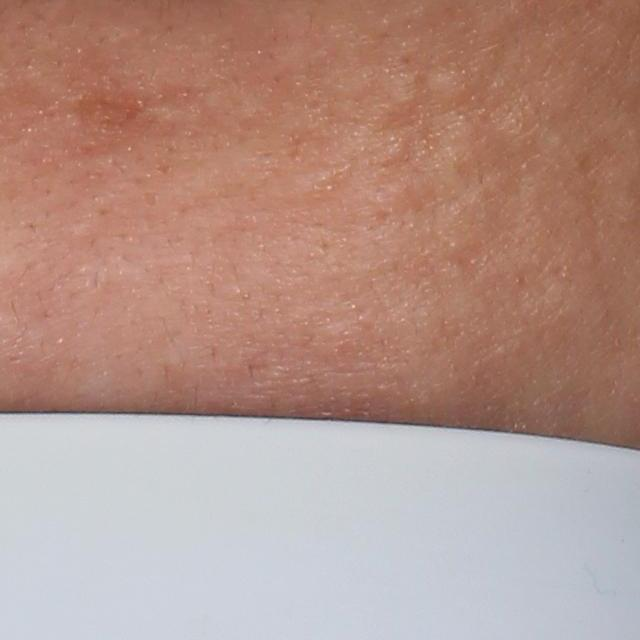hypertrophic_scar: (144, 99, 209, 130), (377, 66, 416, 109), (424, 69, 463, 107)
